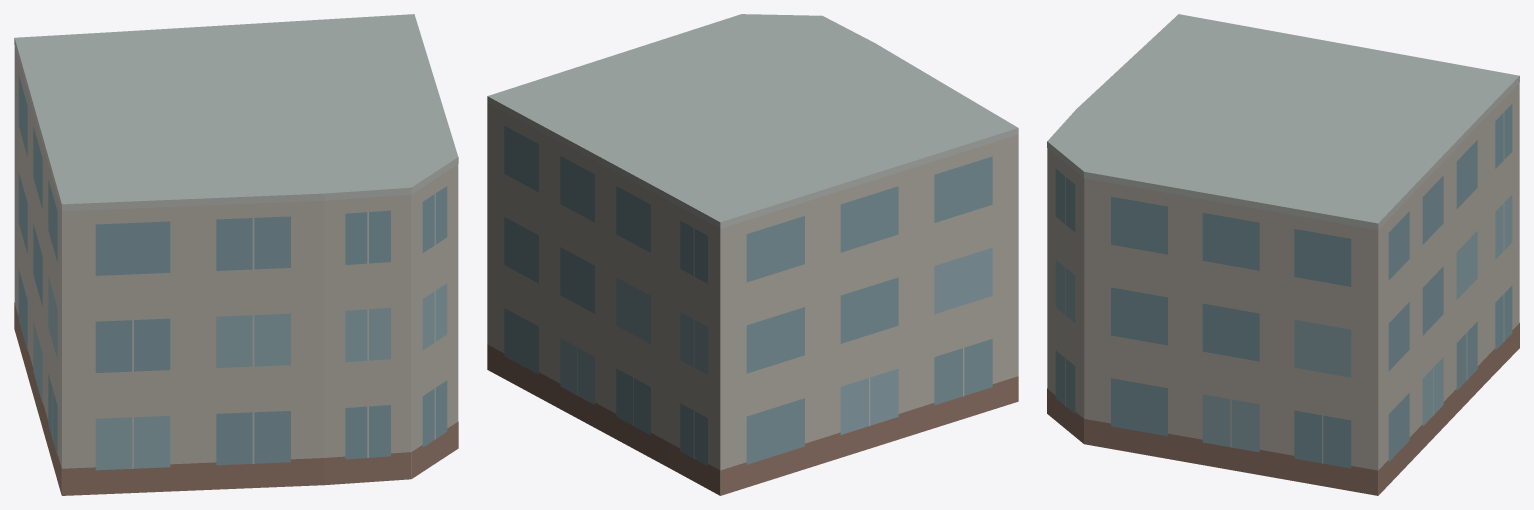
The model's file is survey-upis-32527632.glb.
3 views of the same model, side by side, from view 1: azimuth 30°, elevation 25°; view 2: azimuth 150°, elevation 25°; view 3: azimuth 270°, elevation 25° (orthographic). The views are drawn at different scales.
Parts seen in each view (by area): view 1: survey-upis-32527632.tmp; view 2: survey-upis-32527632.tmp; view 3: survey-upis-32527632.tmp.
Part boxes in pixels (left/top/right/bottom): survey-upis-32527632.tmp: left=14, top=14, right=458, bottom=495; survey-upis-32527632.tmp: left=487, top=14, right=1018, bottom=495; survey-upis-32527632.tmp: left=1047, top=14, right=1519, bottom=495.
Size of the model in its own units: 16.83 by 10.2 by 16.05.
